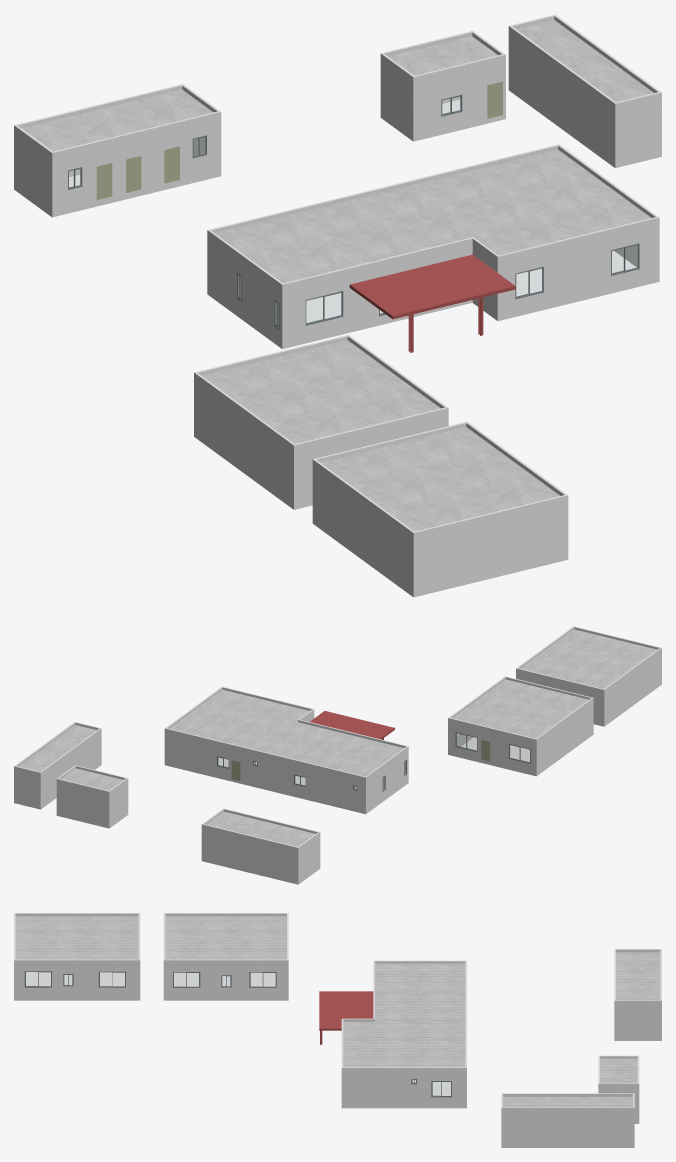
Rendered from Plan(REF)_levels(1)_window(REF)_wall(WAFRA WALL)_quoin(N)_cornice(N).fbx.
3 renders of one model, top to bottom at view 1: azimuth 30°, elevation 25°; view 2: azimuth 150°, elevation 25°; view 3: azimuth 270°, elevation 25°, orthographic. The views are drawn at different scales.
Parts seen in each view (by area): view 1: WAFRA Stucco - White Rough 23, WAFRA Roof - Corrugated Sheet Matte 23, WAFRA Roof - Standing Seam Red Coat 23, Glass - Clear, Color - Beige, Metal - Finish - Aluminum; view 2: WAFRA Stucco - White Rough 23, WAFRA Roof - Corrugated Sheet Matte 23, WAFRA Roof - Standing Seam Red Coat 23, Glass - Clear, Metal - Finish - Aluminum, Color - Beige; view 3: WAFRA Roof - Corrugated Sheet Matte 23, WAFRA Stucco - White Rough 23, WAFRA Roof - Standing Seam Red Coat 23, Glass - Clear, Metal - Finish - Aluminum.
Part boxes in pixels (x1,y1,x2,y2): WAFRA Stucco - White Rough 23: [14, 14, 661, 597]; WAFRA Roof - Corrugated Sheet Matte 23: [22, 20, 653, 531]; WAFRA Roof - Standing Seam Red Coat 23: [349, 254, 515, 352]; Glass - Clear: [69, 97, 637, 324]; Color - Beige: [96, 81, 502, 199]; Metal - Finish - Aluminum: [68, 94, 639, 328]; WAFRA Stucco - White Rough 23: [14, 626, 661, 884]; WAFRA Roof - Corrugated Sheet Matte 23: [19, 629, 656, 846]; WAFRA Roof - Standing Seam Red Coat 23: [310, 711, 394, 739]; Glass - Clear: [218, 733, 529, 789]; Metal - Finish - Aluminum: [217, 732, 530, 791]; Color - Beige: [231, 740, 490, 781]; WAFRA Roof - Corrugated Sheet Matte 23: [15, 916, 660, 1106]; WAFRA Stucco - White Rough 23: [14, 913, 661, 1147]; WAFRA Roof - Standing Seam Red Coat 23: [319, 991, 373, 1044]; Glass - Clear: [26, 972, 450, 1095]; Metal - Finish - Aluminum: [24, 971, 451, 1097].
Bounding box in the file's own units: 4148 × 5833 × 400.
11 materials, 4 textured.
